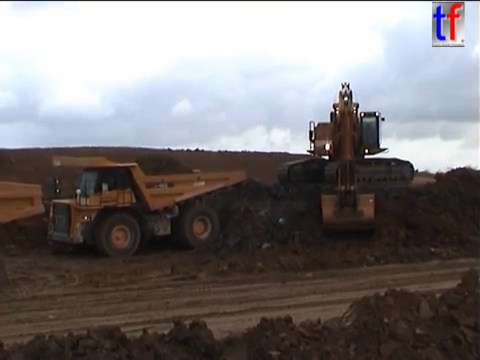excavator: (275, 78, 417, 235)
truck: (44, 153, 247, 258), (1, 177, 47, 226)
